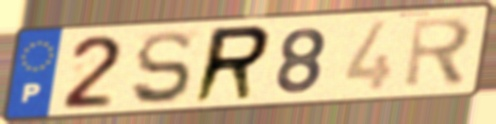2: (60, 32, 127, 112)
4: (341, 18, 397, 93)
8: (275, 26, 328, 95)
R: (188, 22, 275, 107), (400, 14, 477, 92)
S: (128, 28, 195, 107)
